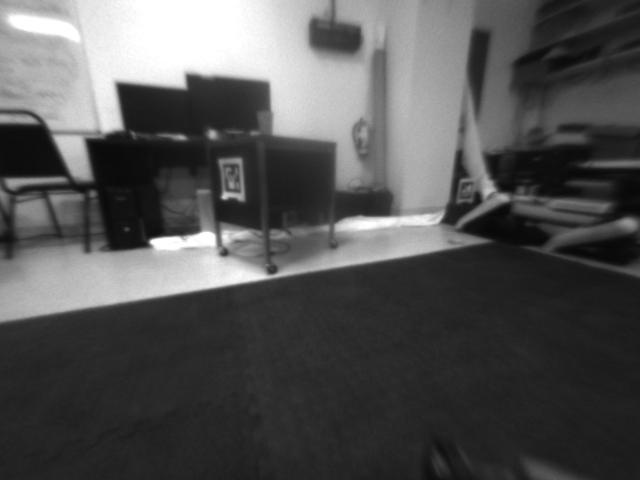coffee_cup: (254, 109, 277, 139)
